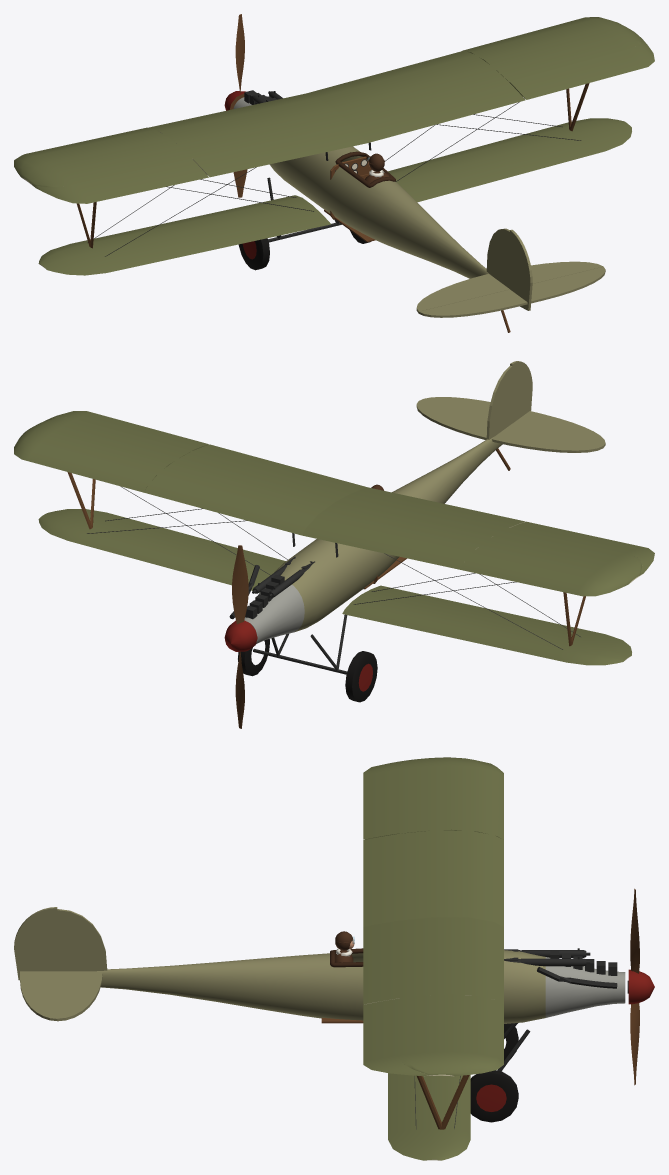
Rendered from albatros_diii.glb.
The picture shows the model from 3 angles, top to bottom: view 1: azimuth 30°, elevation 25°; view 2: azimuth 150°, elevation 25°; view 3: azimuth 270°, elevation 25°; orthographic projection. The views are drawn at different scales.
Parts seen in each view (by area): view 1: Wing_Upper_R, Wing_Upper_L, Wing_Lower_L, Fuselage, Wing_Lower_R, Aileron_L, Aileron_R, Elevator, Stabilizer_L, Rudder, Fin, Wires (+7 smaller); view 2: Wing_Upper_R, Wing_Upper_L, Wing_Lower_L, Fuselage, Wing_Lower_R, PropBlades, Elevator, Stabilizer_L, Wheels, Aileron_L, Aileron_R, Stabilizer_R (+7 smaller); view 3: Wing_Upper_L, Wing_Upper_R, Fuselage, Wing_Lower_R, Aileron_R, Aileron_L, Fin, Rudder, Wheels, PropBlades, Stabilizer_R, Elevator (+3 smaller).
Boxes of the visible parts, box(x1,y1,x2,y2) form: Wing_Upper_R: box(306, 17, 641, 142); Wing_Upper_L: box(14, 93, 367, 186); Wing_Lower_L: box(38, 195, 330, 275); Fuselage: box(233, 97, 491, 278); Wing_Lower_R: box(388, 118, 631, 202); Aileron_L: box(32, 159, 208, 203); Aileron_R: box(509, 37, 654, 99); Elevator: box(419, 266, 605, 317); Stabilizer_L: box(416, 274, 509, 313); Rudder: box(510, 229, 532, 310); Fin: box(486, 228, 509, 288); Wires: box(87, 102, 581, 256); Wing_Upper_R: box(14, 417, 367, 535); Wing_Upper_L: box(302, 487, 641, 596); Wing_Lower_L: box(342, 585, 631, 665); Fuselage: box(244, 437, 502, 643); Wing_Lower_R: box(38, 509, 285, 592); PropBlades: box(224, 545, 257, 728); Elevator: box(419, 397, 605, 447); Stabilizer_L: box(491, 423, 603, 452); Wheels: box(238, 639, 377, 702); Aileron_L: box(509, 521, 654, 575); Aileron_R: box(47, 411, 208, 450); Stabilizer_R: box(416, 400, 487, 439); Wing_Upper_L: box(363, 757, 503, 926); Wing_Upper_R: box(363, 917, 503, 1076); Fuselage: box(97, 950, 625, 1023); Wing_Lower_R: box(388, 1073, 470, 1160); Aileron_R: box(363, 998, 431, 1076); Aileron_L: box(363, 759, 411, 839); Fin: box(57, 909, 107, 971); Rudder: box(14, 907, 57, 980); Wheels: box(470, 1023, 518, 1122); PropBlades: box(627, 888, 654, 1085); Stabilizer_R: box(57, 971, 102, 1021); Elevator: box(20, 971, 57, 1020).
Bounding box in the file's own units: 9.04 × 2.71 × 7.75.
